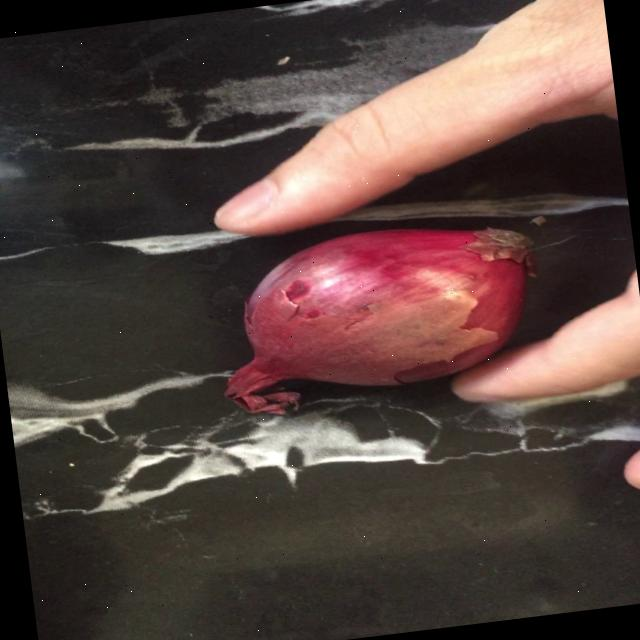Onion: (224, 227, 531, 412)
